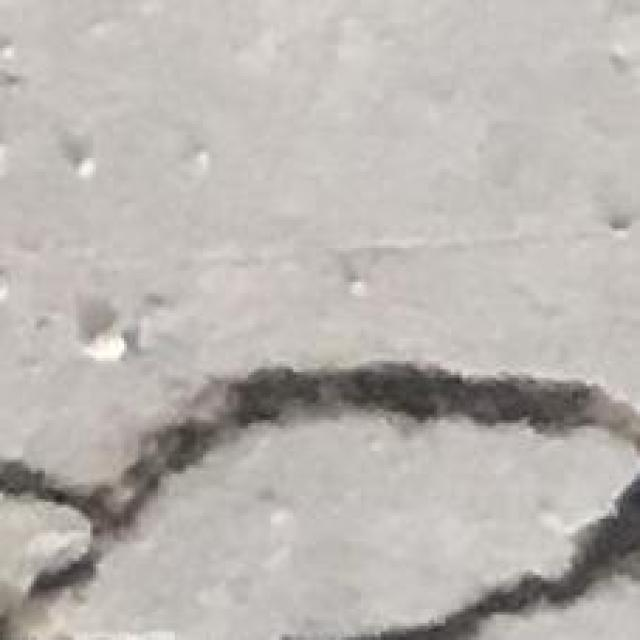branched cracks: (0, 362, 639, 639), (344, 475, 639, 639)
